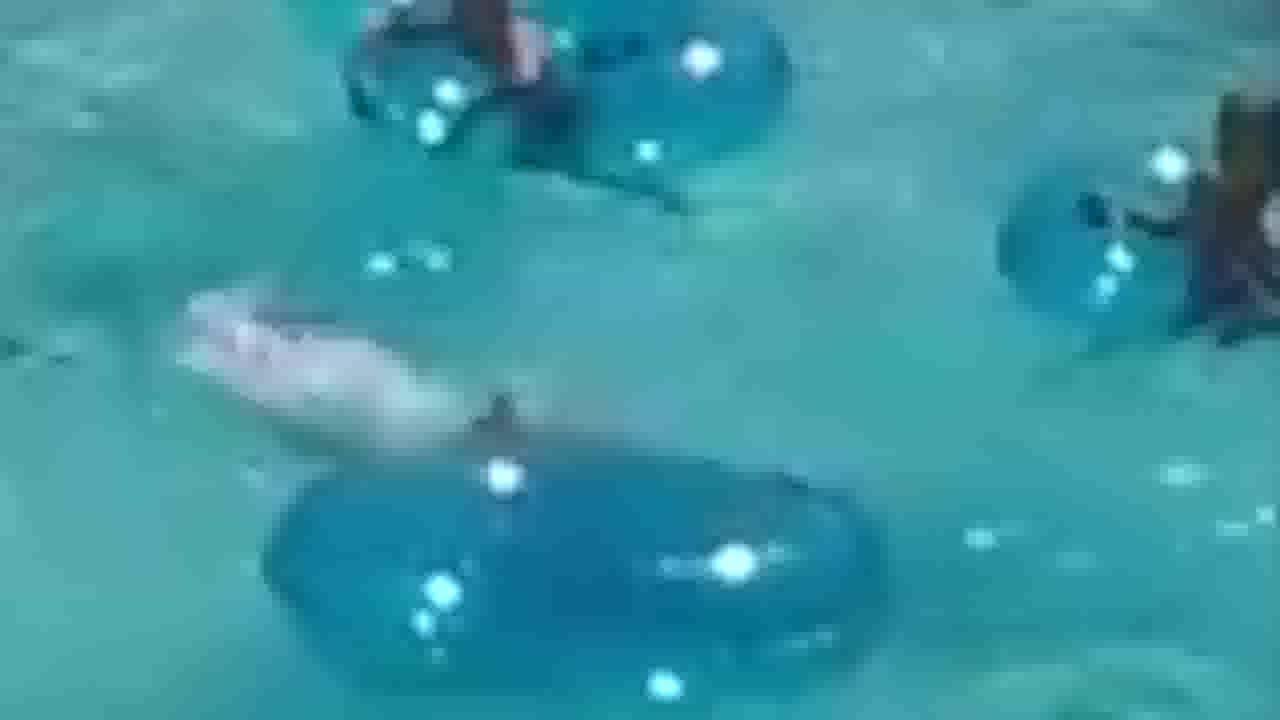Drowning: (177, 294, 540, 468)
